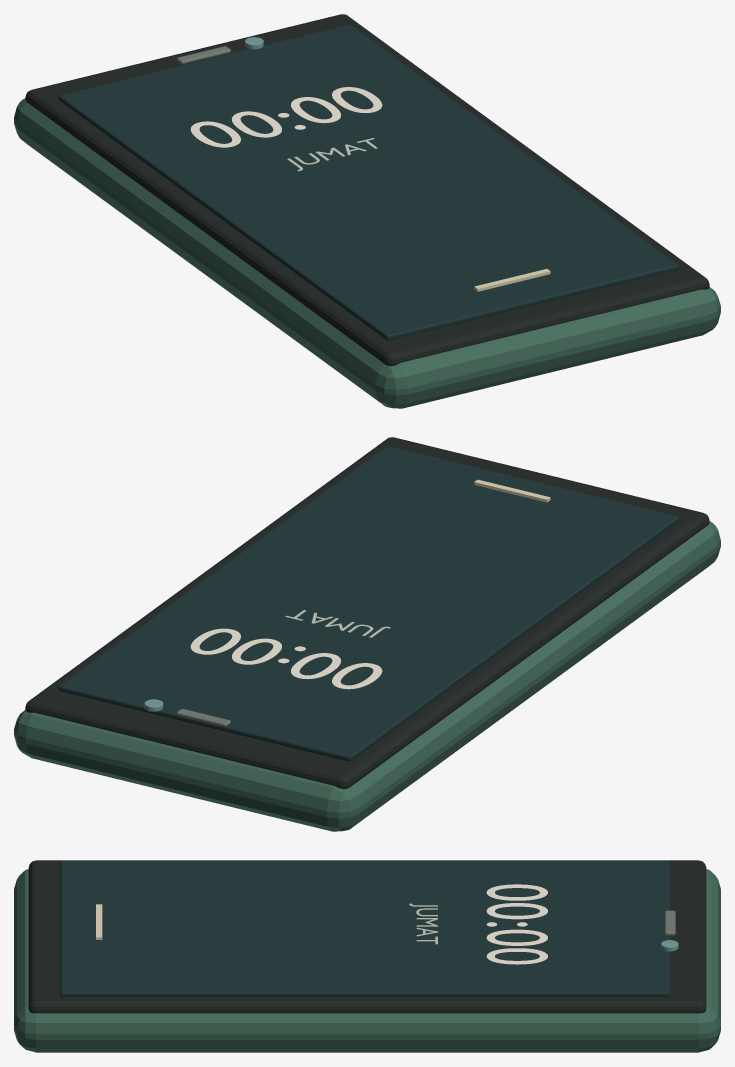
File: smartphone_reski.glb
3 views of the same model, one above another, from view 1: azimuth 30°, elevation 25°; view 2: azimuth 150°, elevation 25°; view 3: azimuth 270°, elevation 25° (orthographic). The views are drawn at different scales.
Parts seen in each view (by area): view 1: smartphone_reski; view 2: smartphone_reski; view 3: smartphone_reski.
Boxes of the visible parts, <box> form: smartphone_reski: <box>14,14,720,408</box>; smartphone_reski: <box>14,437,720,831</box>; smartphone_reski: <box>14,860,720,1052</box>.
Bounding box in the file's own units: 0.0776 × 0.0144 × 0.15.
